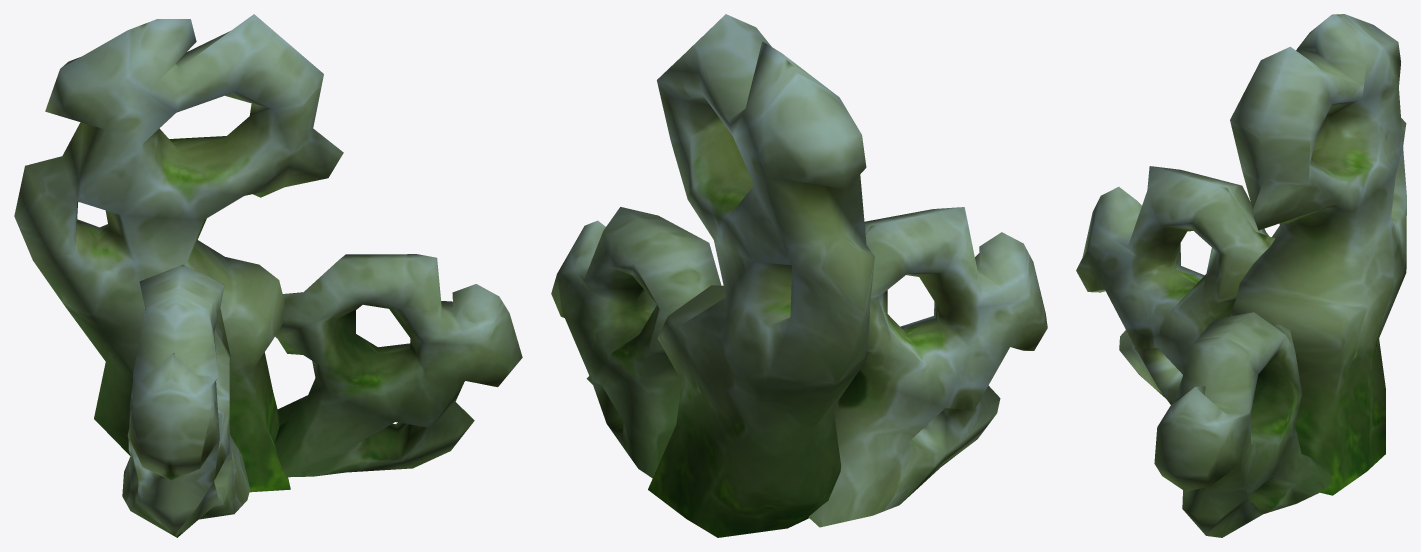
File: jiashan001.FBX
The picture shows the model from 3 angles, left to right: view 1: azimuth 30°, elevation 25°; view 2: azimuth 150°, elevation 25°; view 3: azimuth 270°, elevation 25°; orthographic projection. The views are drawn at different scales.
Visible parts, largest first — view 1: jiashan001; view 2: jiashan001; view 3: jiashan001.
Boxes of the visible parts, x1,y1,x2,y2 form: jiashan001: (14,14,522,537); jiashan001: (551,14,1047,537); jiashan001: (1076,14,1406,537).
Size of the model in its own units: 169 by 122 by 176.
